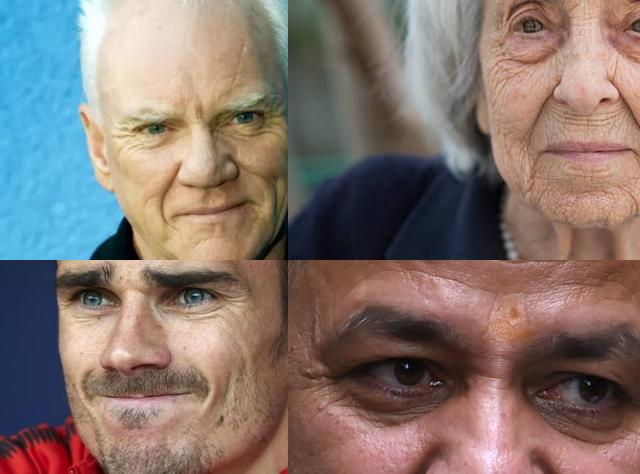bunny_line: (606, 58, 620, 84)
chin: (613, 187, 640, 216), (554, 190, 574, 220), (583, 184, 609, 204)
crows_feet: (306, 366, 346, 400), (261, 105, 285, 137), (490, 28, 506, 70), (218, 284, 240, 314), (114, 122, 134, 146)
forehead: (404, 265, 484, 291), (228, 44, 246, 90), (505, 260, 569, 272)
frown_line: (470, 364, 504, 384)
gummy_smile: (528, 86, 558, 124), (157, 168, 179, 218), (616, 91, 640, 128), (389, 453, 421, 474)
masseter: (267, 178, 281, 226), (496, 126, 512, 152)
sad_smile: (197, 366, 223, 408), (75, 376, 97, 412), (524, 148, 542, 182), (632, 149, 640, 179)
smoker_lines: (566, 114, 610, 136)
